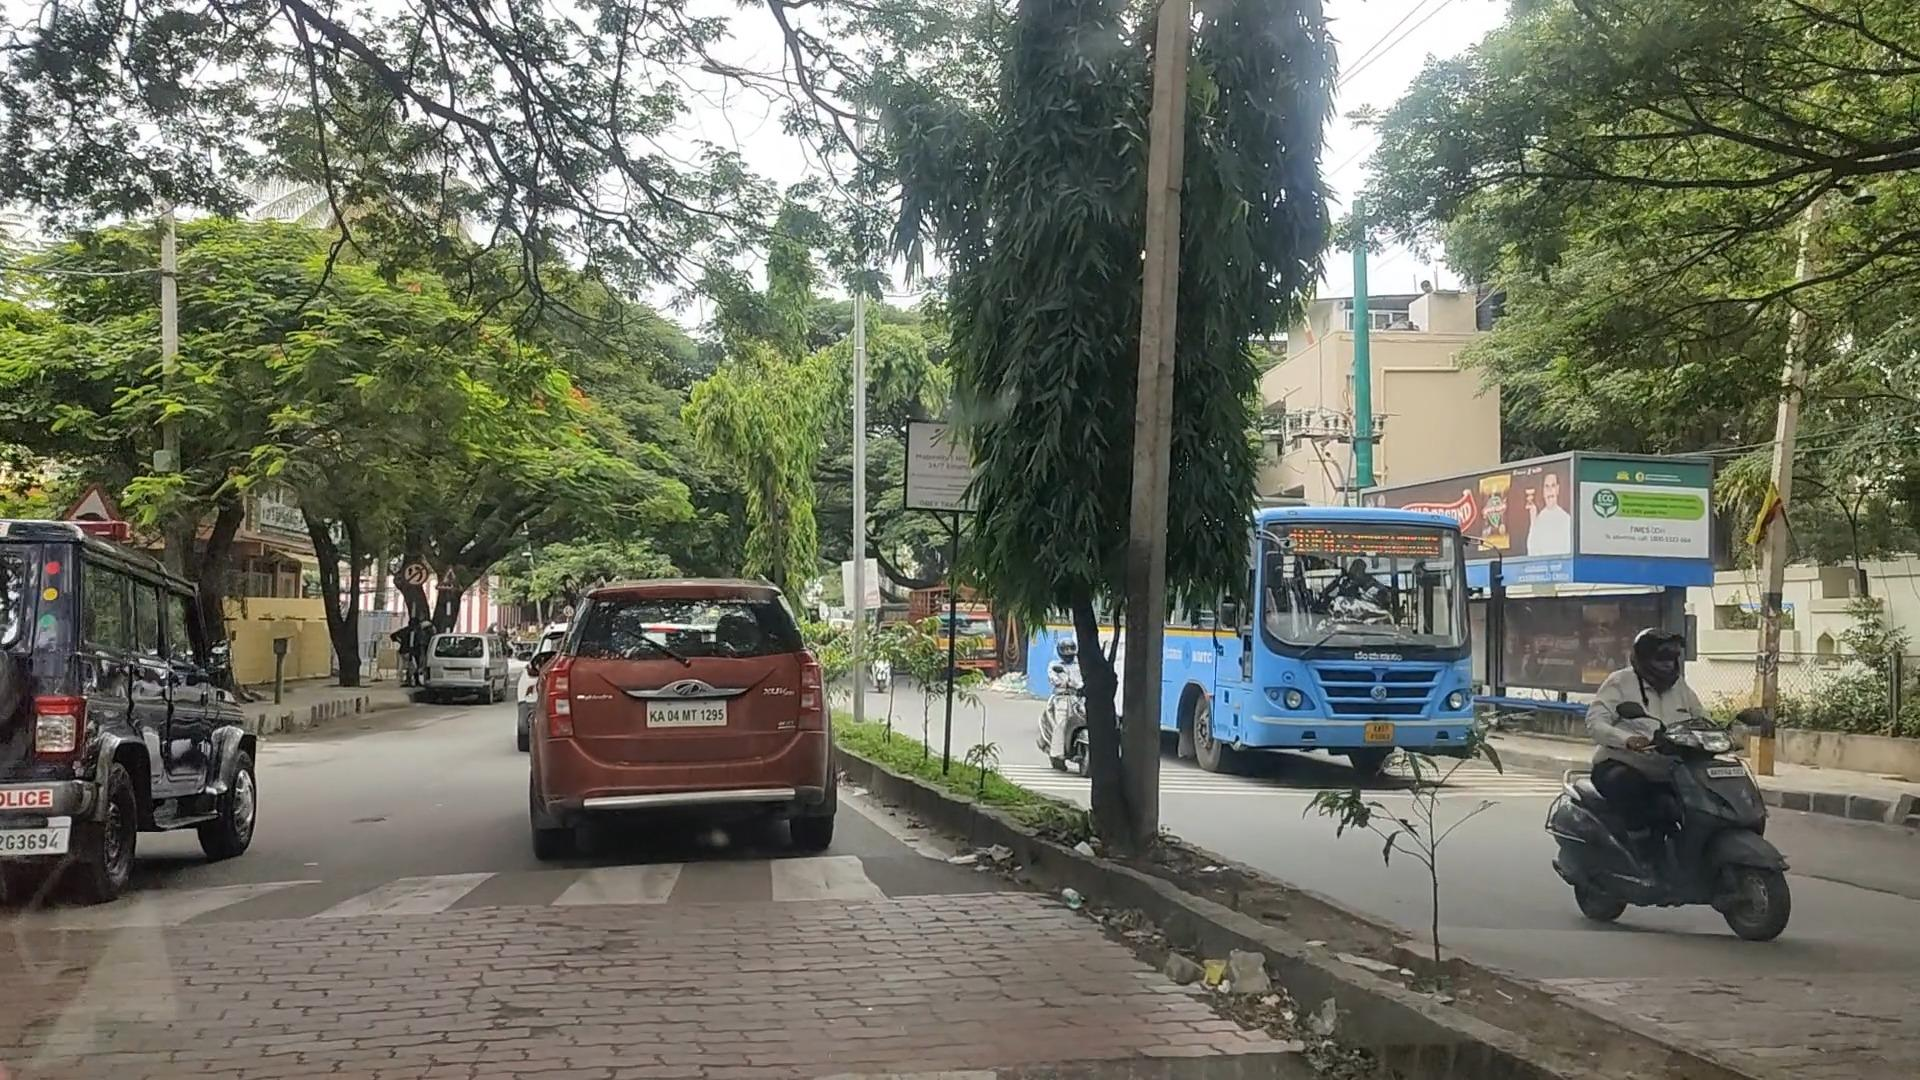LMV: (11, 513, 255, 865), (535, 580, 848, 852)
SpeedBump: (207, 832, 949, 945)
